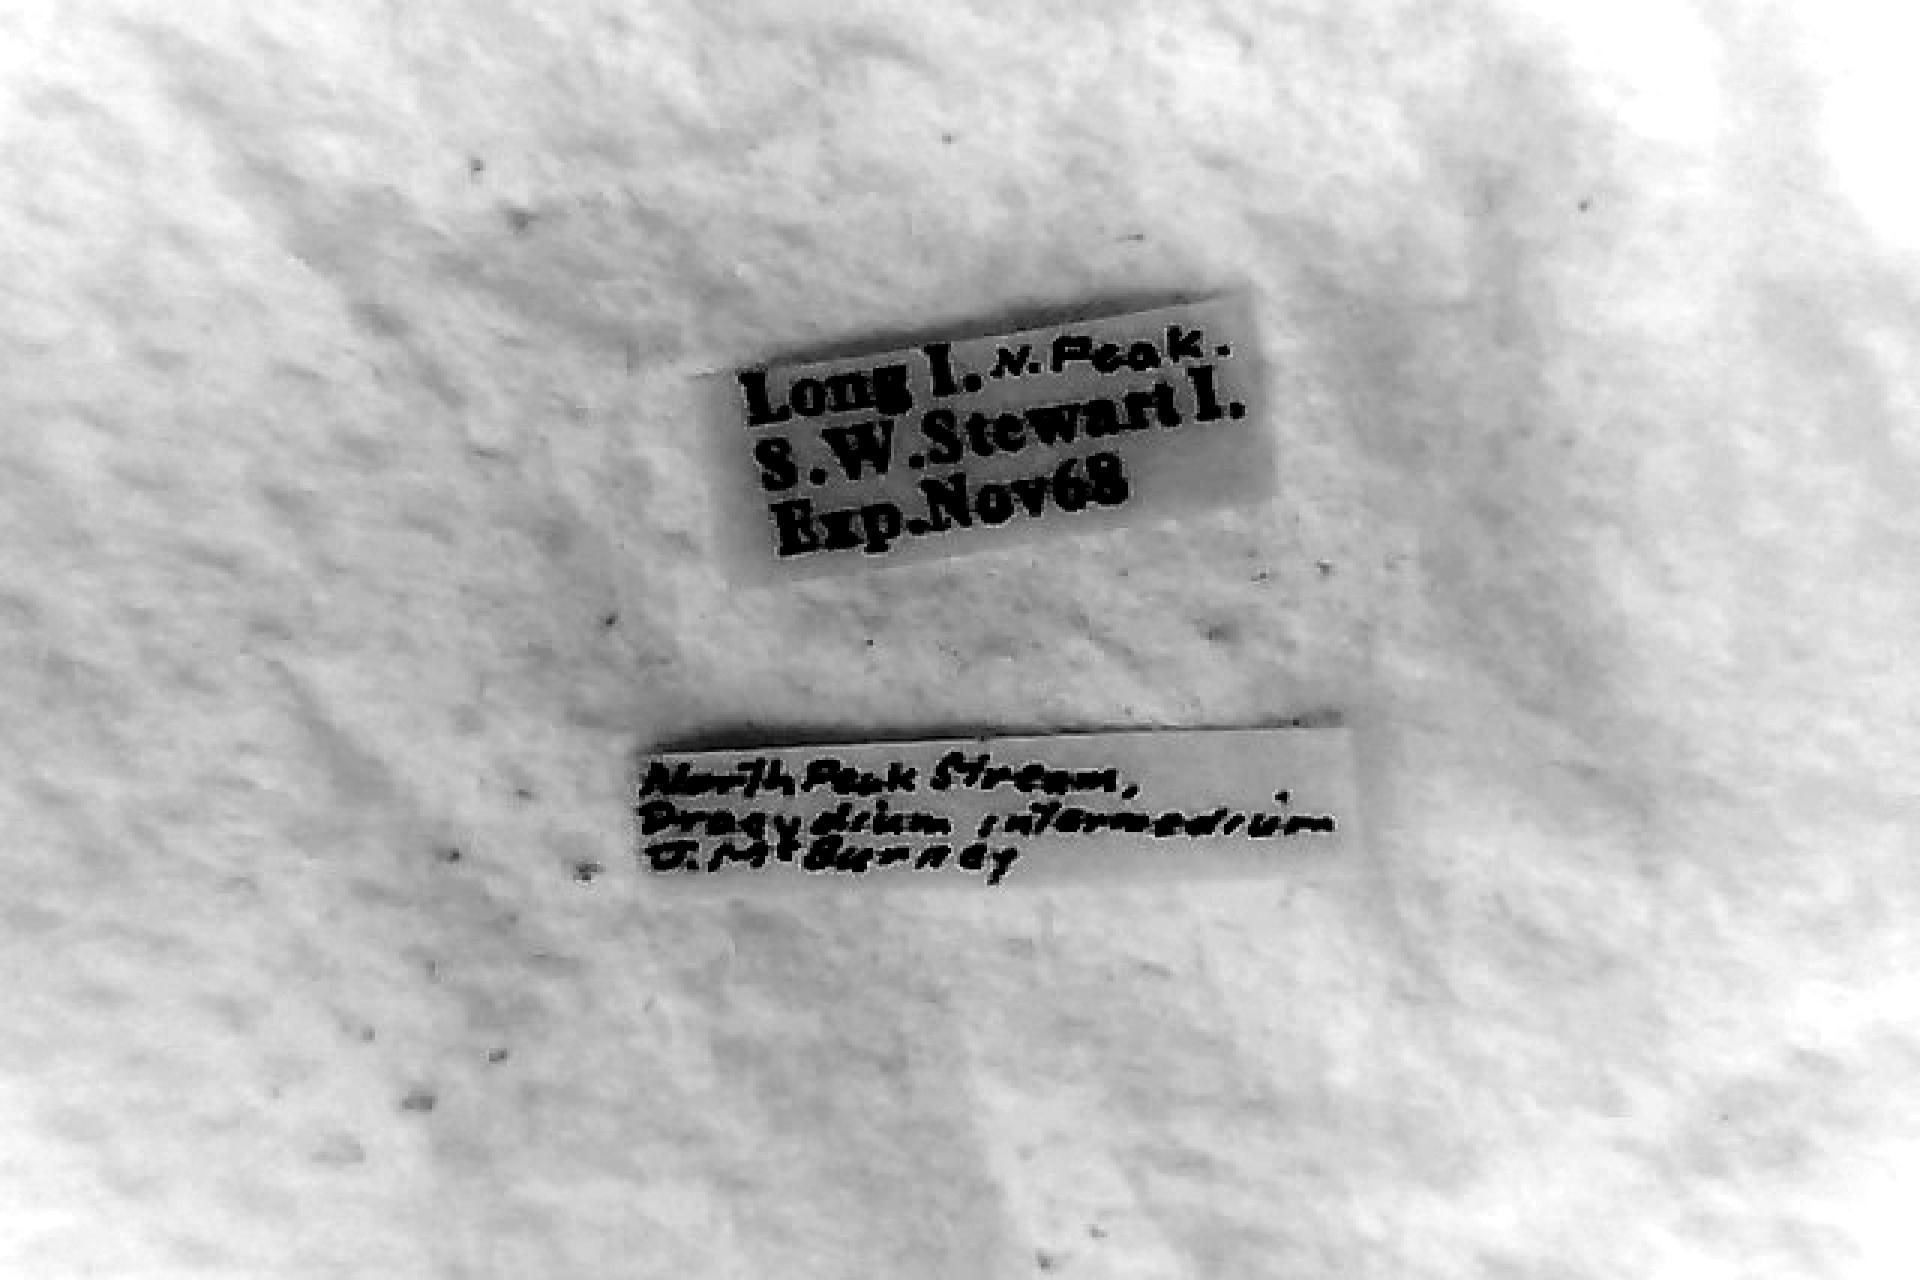hand_label: (637, 730, 1357, 881)
mixed_label: (697, 297, 1267, 581)
